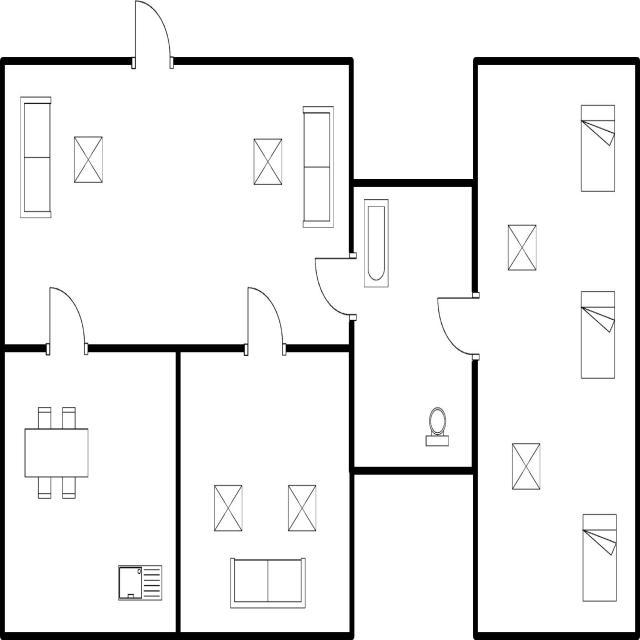bed: (576, 285, 619, 387), (577, 508, 620, 606), (577, 97, 617, 200)
coffee_table: (502, 216, 541, 276), (283, 476, 319, 539), (247, 132, 285, 190), (70, 131, 106, 189), (508, 438, 544, 496), (209, 481, 246, 536)
dining_table: (20, 400, 92, 502)
large_sink: (422, 401, 452, 453)
large_sofa: (15, 90, 58, 222), (226, 551, 309, 614), (298, 101, 337, 234)
sink: (114, 561, 166, 606)
tub: (360, 194, 392, 292)
